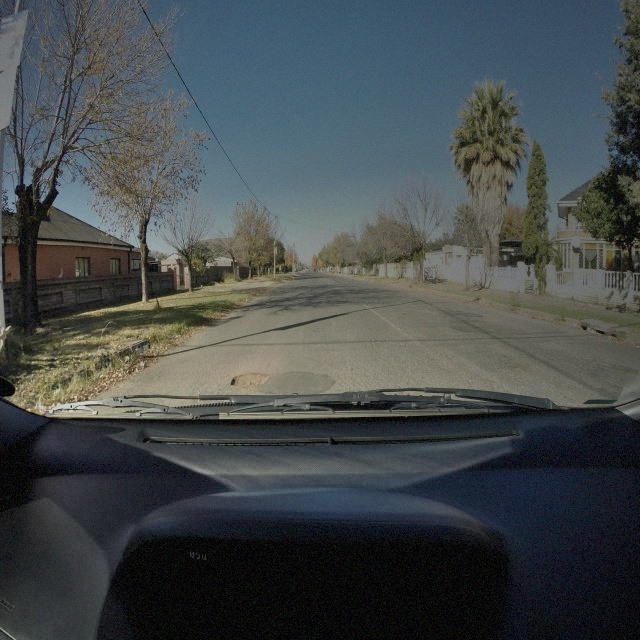pothole: (229, 372, 272, 389)
